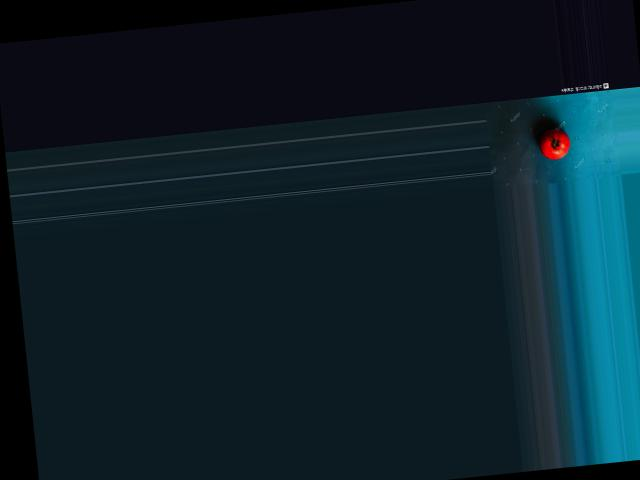tomato: (537, 127, 571, 161)
